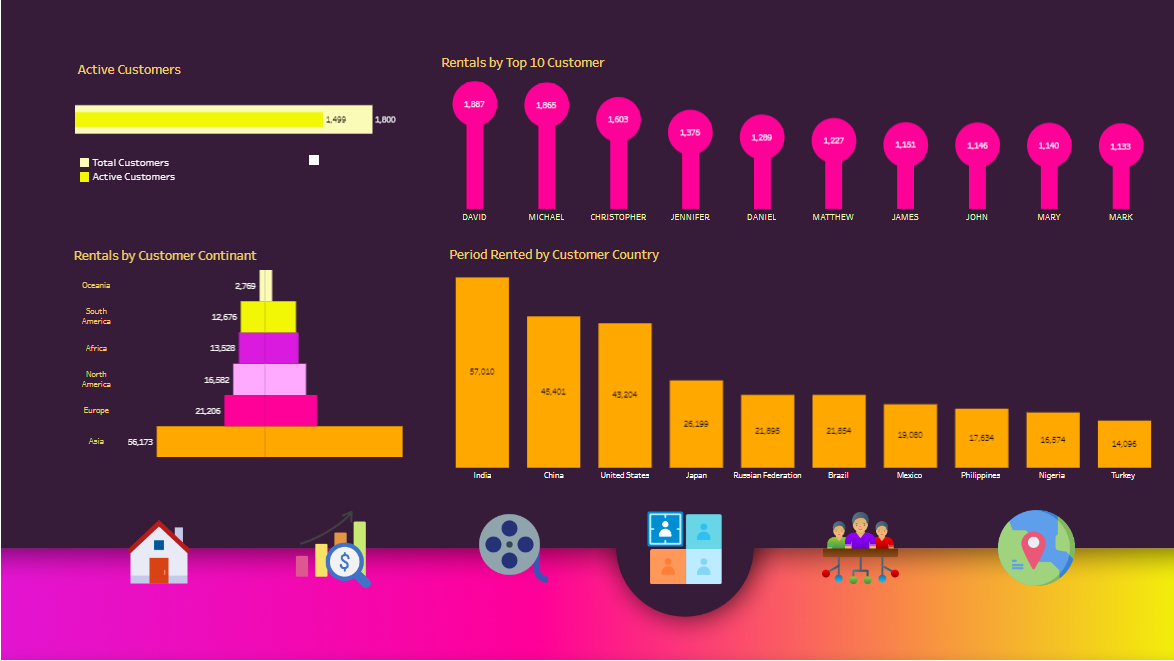

What the dashboard file says about the page in this screenshot:
{"tool":"tableau","page":{"name":"Customer","canvas":[1920,1080],"ordinal":1},"visuals":[{"type":"image","param":"D:/ITI intensive code camp/Graduation Project/Sakila/Tableau/navigation bar 4 sh","box":[8,8,1904,1064]},{"type":"dashboard-object","box":[734,823,185,123]},{"type":"dashboard-object","box":[1017,828,180,123]},{"type":"dashboard-object","box":[1298,828,180,123]},{"type":"dashboard-object","box":[1579,828,180,123]},{"type":"dashboard-object","box":[455,830,180,123]},{"type":"dashboard-object","box":[178,834,175,122]}]}

Visuals, with their boxes in screenshot pixels (x1, y1, x2, y2), scaled from the page's 1920x1080 canvas onto the 1174x661 screenshot:
image: <region>5, 5, 1169, 656</region>
dashboard-object: <region>449, 504, 562, 579</region>
dashboard-object: <region>622, 507, 732, 582</region>
dashboard-object: <region>794, 507, 904, 582</region>
dashboard-object: <region>965, 507, 1076, 582</region>
dashboard-object: <region>278, 508, 388, 583</region>
dashboard-object: <region>109, 510, 216, 585</region>
